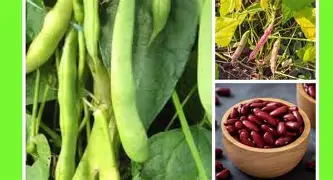crops: (31, 0, 201, 141), (215, 0, 315, 77), (224, 98, 302, 146), (302, 81, 315, 98)
